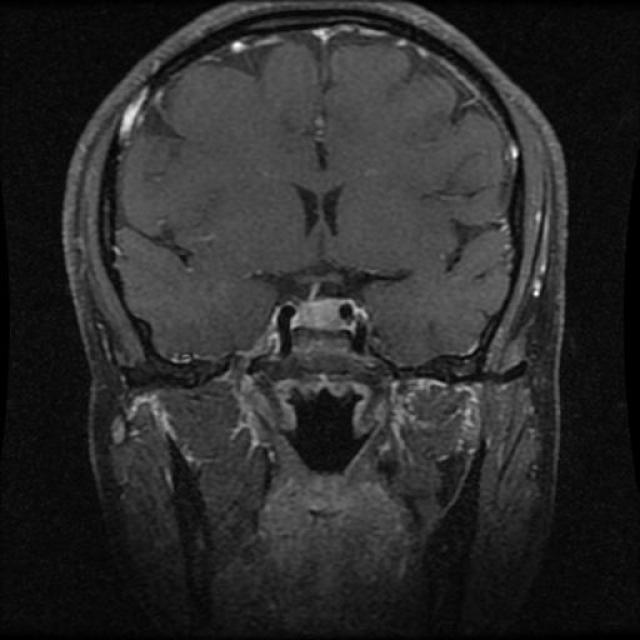pituitary: (268, 286, 376, 360)
